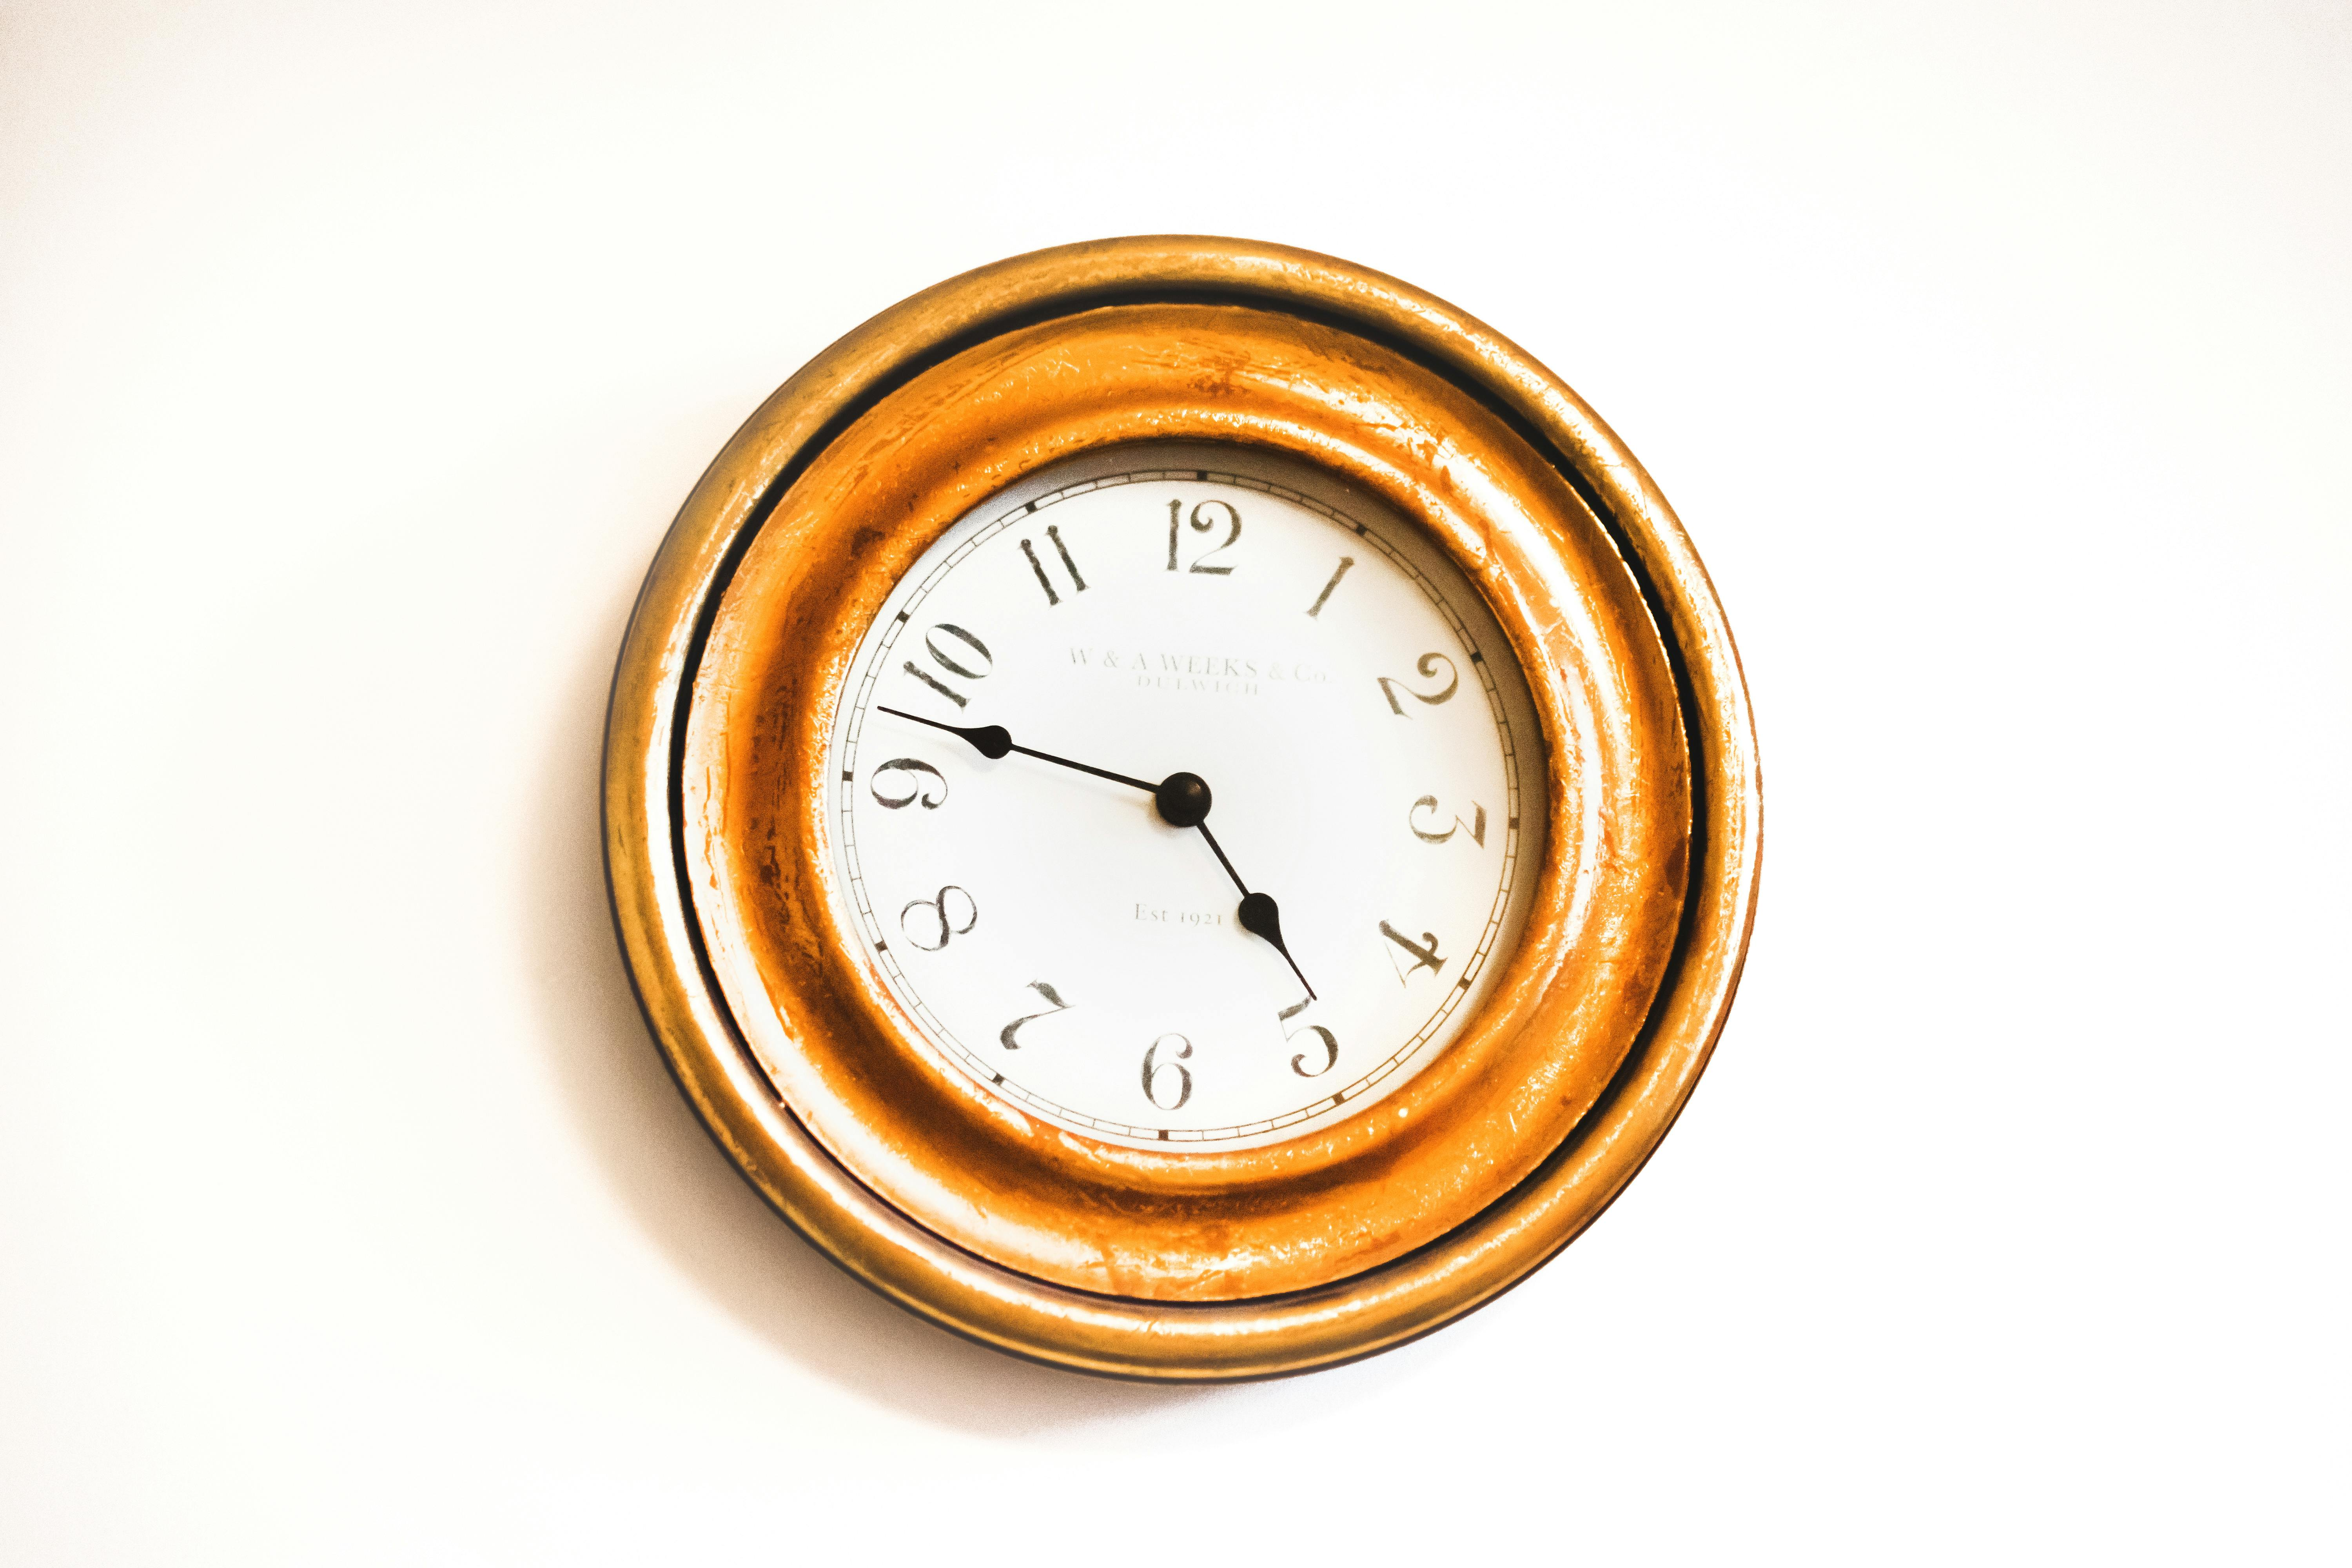clock: (490, 122, 1911, 1442)
